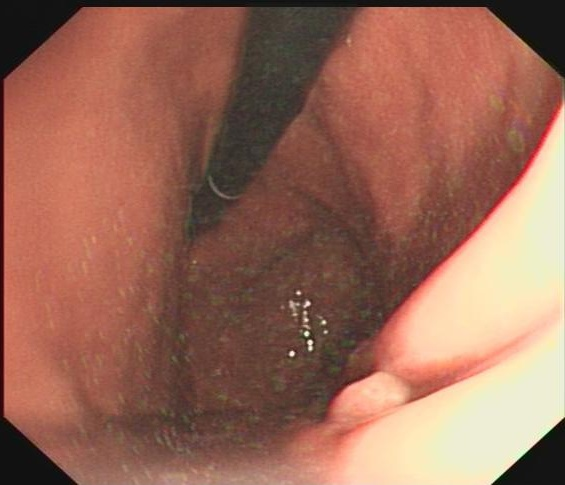Polyp: (323, 365, 417, 426)
